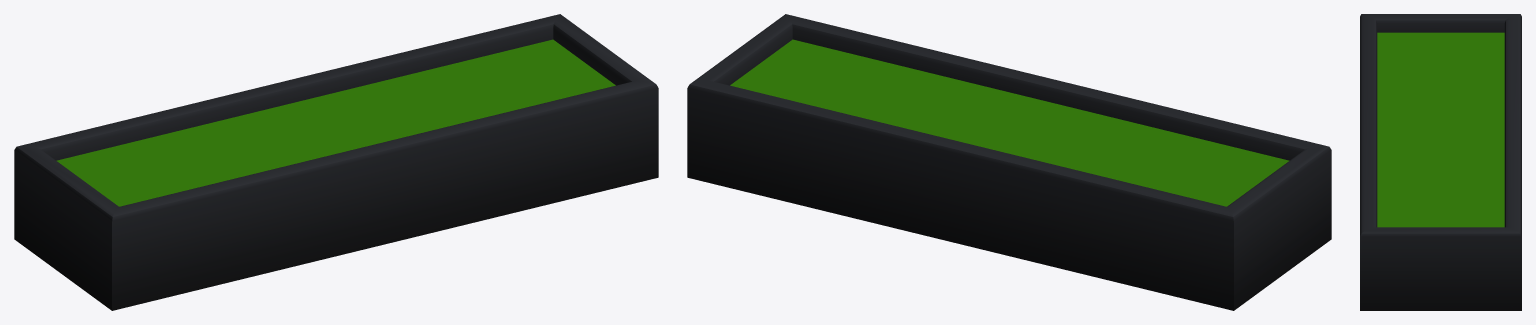
Rendered from Monitor_4.fbx.
3 views of the same model, side by side, from view 1: azimuth 30°, elevation 25°; view 2: azimuth 150°, elevation 25°; view 3: azimuth 270°, elevation 25° (orthographic). The views are drawn at different scales.
Parts seen in each view (by area): view 1: Monitor_4; view 2: Monitor_4; view 3: Monitor_4.
Boxes of the visible parts, <box> form: Monitor_4: <box>14,14,658,310</box>; Monitor_4: <box>687,14,1331,310</box>; Monitor_4: <box>1360,14,1521,310</box>.
Size of the model in its own units: 6.06 by 1 by 1.88.
1 material, 1 textured.
